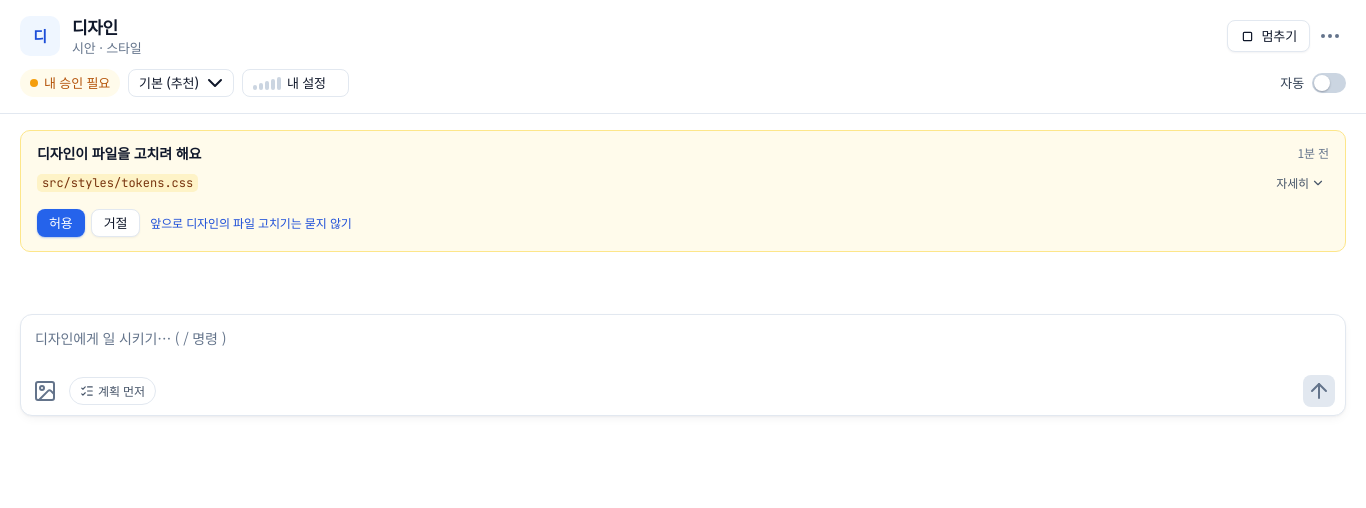
Test: 권한 카드 › 대상은 mono(폴더 기준 경로), 자세히는 칸별로 접어 둔다 — JSON 글자는 없다
Expected: the text "src/styles/tokens.css" is shown, [37,174,198,192]
Click the button "자세히" at x=1301, y=183, box [1272,169,1329,197]
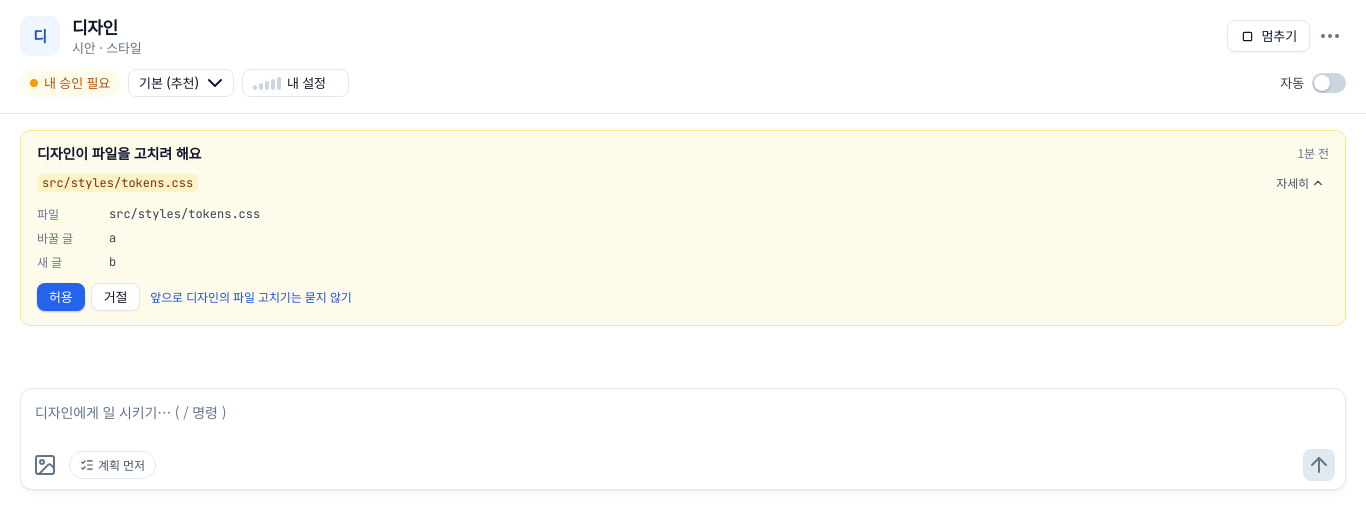
Now the button "자세히" is expanded, box [1272,169,1329,197]
